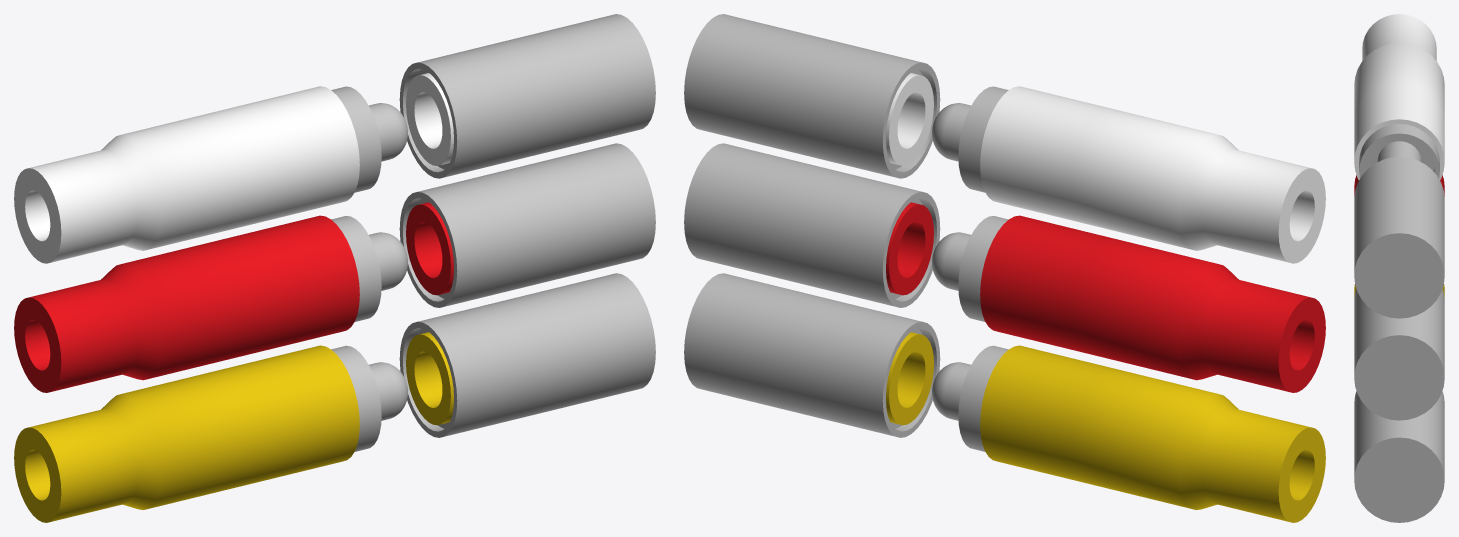
The model's file is uploads_files_2011614_Video+Conectors.fbx.
3 renders of one model, left to right at view 1: azimuth 30°, elevation 25°; view 2: azimuth 150°, elevation 25°; view 3: azimuth 270°, elevation 25°, orthographic. The views are drawn at different scales.
Parts seen in each view (by area): view 1: Video 2, Audio L 2, Audio R 2, Video, Audio R, Audio L; view 2: Video 2, Audio L 2, Audio R 2, Video, Audio R, Audio L; view 3: Audio L, Audio L 2, Video, Audio R.
Part boxes in pixels (x1,y1,x2,y2): Video 2: (14,345,407,522); Audio L 2: (14,86,407,263); Audio R 2: (14,215,407,392); Video: (399,273,655,437); Audio R: (399,143,655,307); Audio L: (399,14,655,178); Video 2: (932,345,1325,522); Audio L 2: (932,86,1325,263); Audio R 2: (932,215,1325,392); Video: (684,273,940,437); Audio R: (684,143,940,307); Audio L: (684,14,940,178); Audio L: (1354,156,1444,318); Audio L 2: (1354,14,1444,179); Video: (1354,391,1444,522); Audio R: (1354,289,1444,420).
Size of the model in its own units: 279 by 166 by 47.16.
